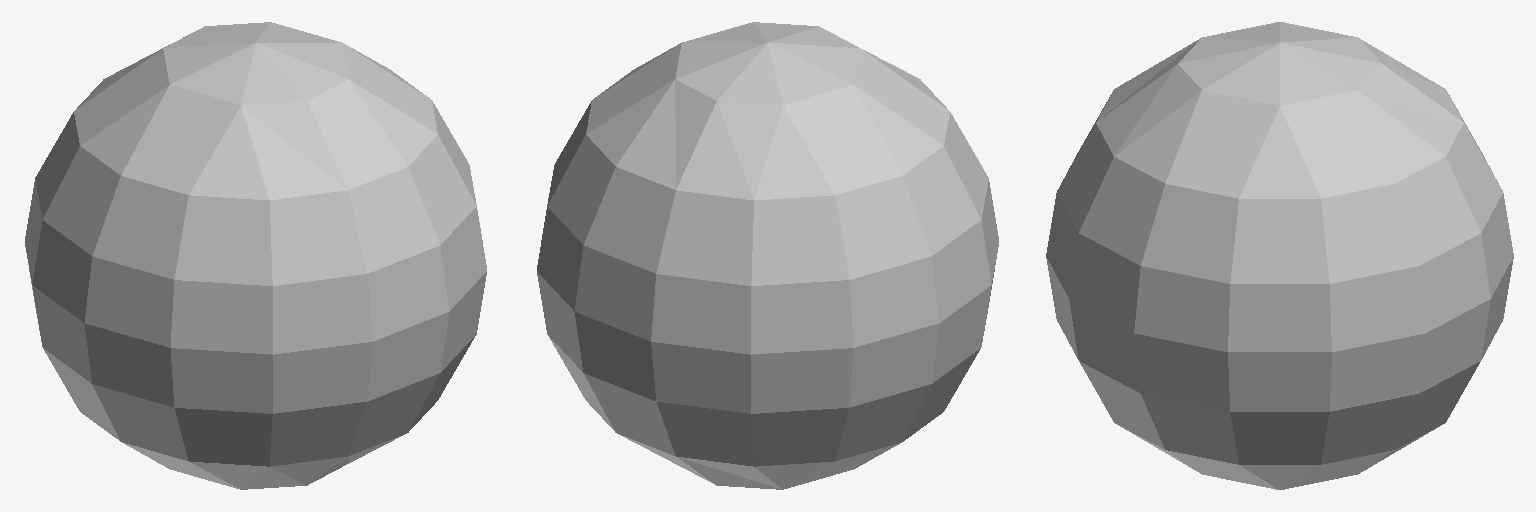
File: WheelFL.obj
3 renders of one model, left to right at view 1: azimuth 30°, elevation 25°; view 2: azimuth 150°, elevation 25°; view 3: azimuth 270°, elevation 25°, orthographic.
Parts seen in each view (by area): view 1: default; view 2: default; view 3: default.
Boxes of the visible parts, x1=… form: default: x1=25, y1=22, x2=486, y2=489; default: x1=537, y1=22, x2=998, y2=489; default: x1=1046, y1=22, x2=1513, y2=489.
Size of the model in its own units: 0.1386 by 0.1431 by 0.1422.